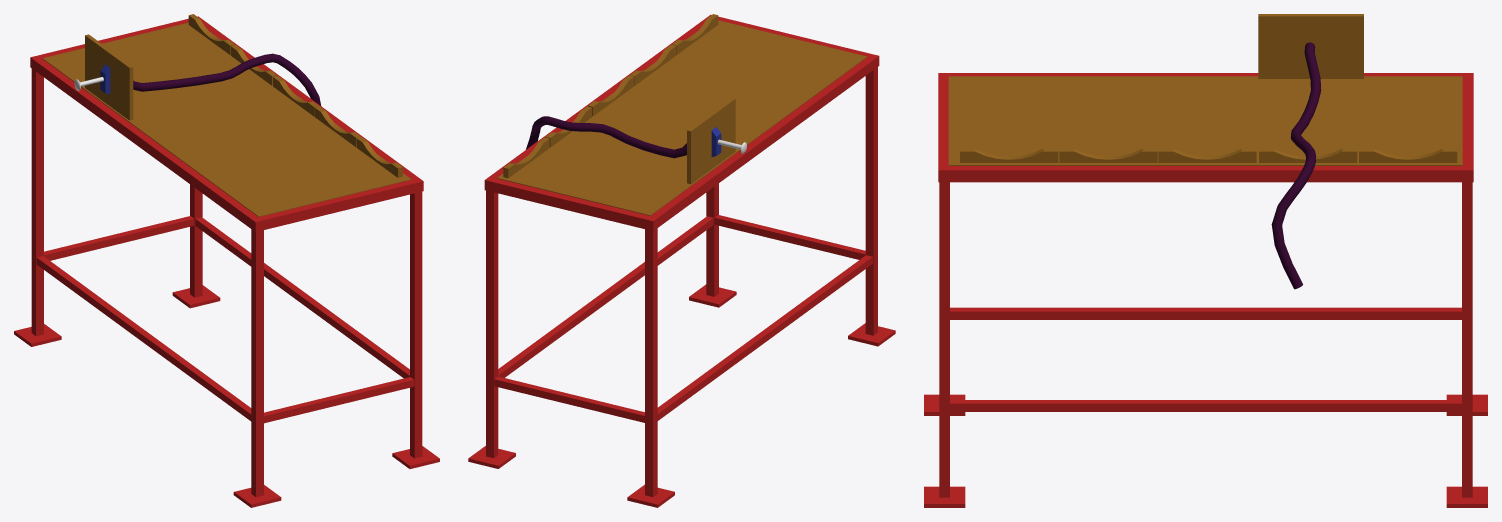
File: STOL.FBX
The picture shows the model from 3 angles, left to right: view 1: azimuth 30°, elevation 25°; view 2: azimuth 150°, elevation 25°; view 3: azimuth 270°, elevation 25°; orthographic projection. The views are drawn at different scales.
Parts seen in each view (by area): view 1: uwrapped_stoika_stola, uwrapped_stol, uwrapped_podstavka5, uwrapped_shlang; view 2: uwrapped_stoika_stola, uwrapped_stol, uwrapped_podstavka5, uwrapped_shlang; view 3: uwrapped_stol, uwrapped_stoika_stola, uwrapped_podstavka5, uwrapped_shlang.
Part boxes in pixels (x1,y1,x2,y2): uwrapped_stoika_stola: (14, 16, 439, 507); uwrapped_stol: (42, 22, 411, 216); uwrapped_podstavka5: (188, 14, 402, 177); uwrapped_shlang: (133, 53, 321, 105); uwrapped_stoika_stola: (468, 14, 895, 507); uwrapped_stol: (497, 20, 866, 215); uwrapped_podstavka5: (503, 14, 718, 178); uwrapped_shlang: (526, 116, 686, 158); uwrapped_stol: (948, 14, 1462, 165); uwrapped_stoika_stola: (924, 73, 1487, 507); uwrapped_podstavka5: (960, 148, 1457, 162); uwrapped_shlang: (1271, 42, 1321, 289).
Bounding box in the file's own units: 751 × 1002 × 1295.
